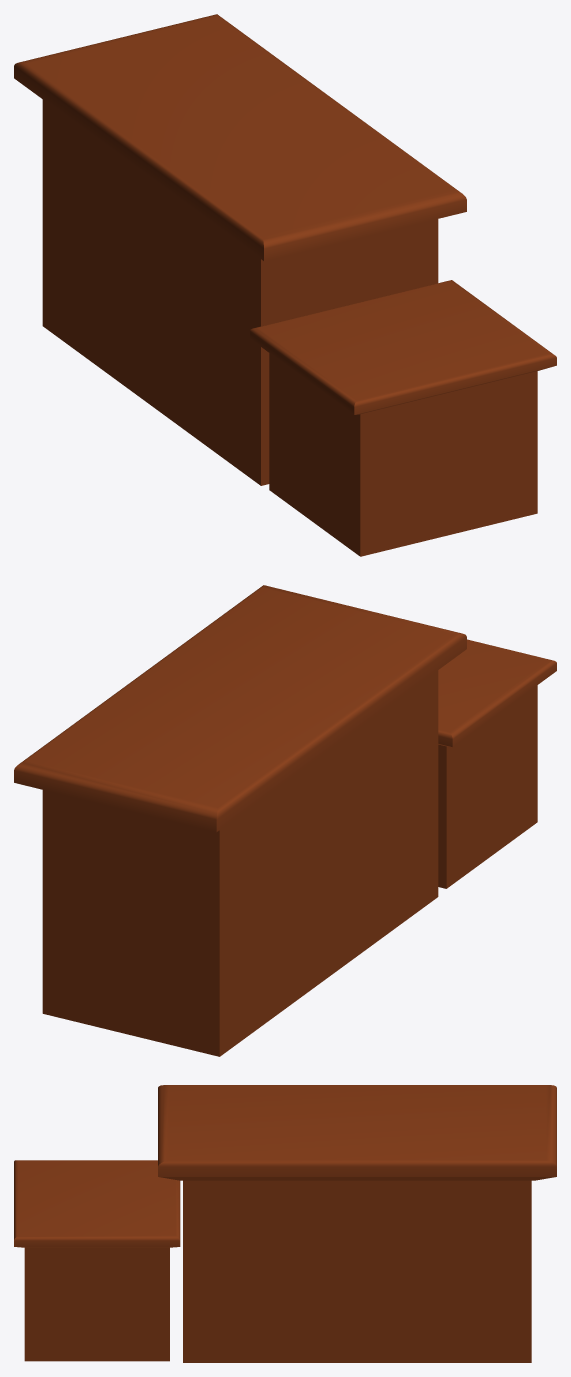
Rendered from DeskT.fbx.
3 renders of one model, top to bottom at view 1: azimuth 30°, elevation 25°; view 2: azimuth 150°, elevation 25°; view 3: azimuth 270°, elevation 25°, orthographic. The views are drawn at different scales.
Visible parts, largest first — view 1: Cube.015; view 2: Cube.015; view 3: Cube.015.
Part boxes in pixels (<box>): Cube.015: <box>14,14,556,556</box>; Cube.015: <box>14,585,556,1056</box>; Cube.015: <box>14,1085,556,1362</box>.
Bounding box in the file's own units: 78.94 × 95.84 × 229.
